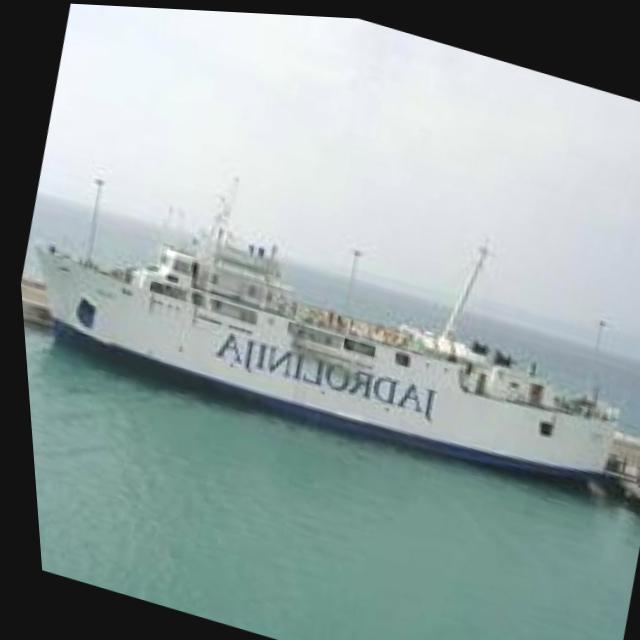ship2: (29, 190, 612, 477)
